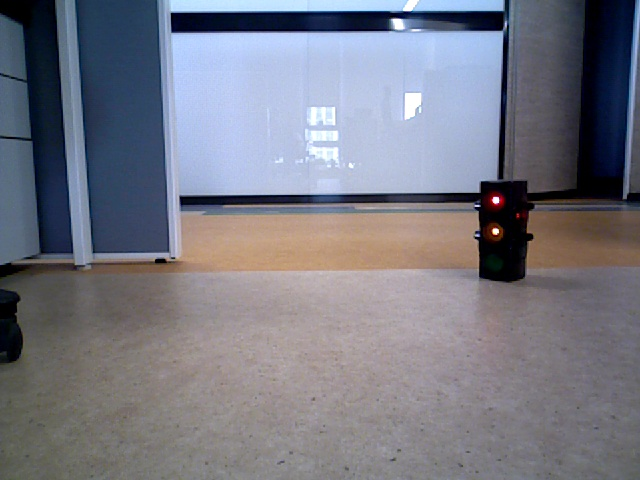red: (480, 184, 525, 274)
